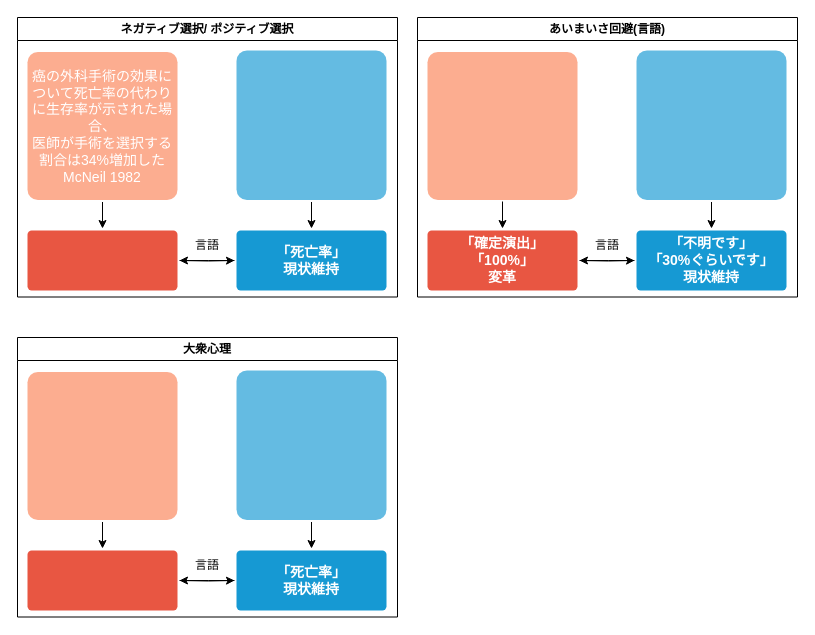
Some shapes in this 815 by 635 pixel diagram are drawn without their labels. The shapes that lost their labels are listed below. From the top down, each one's centre as x and y in pixels, then its label:
At point 711,125: "結果がどうなるか 見込みがはっきりしない行動を本能的に心地悪く感じること".
At point 102,260: "「生存率」 変革".
At point 102,446: "横断歩道 みんなで渡れば 怖くない".
At point 102,580: "「みんなやってるよ」 取り組む".
